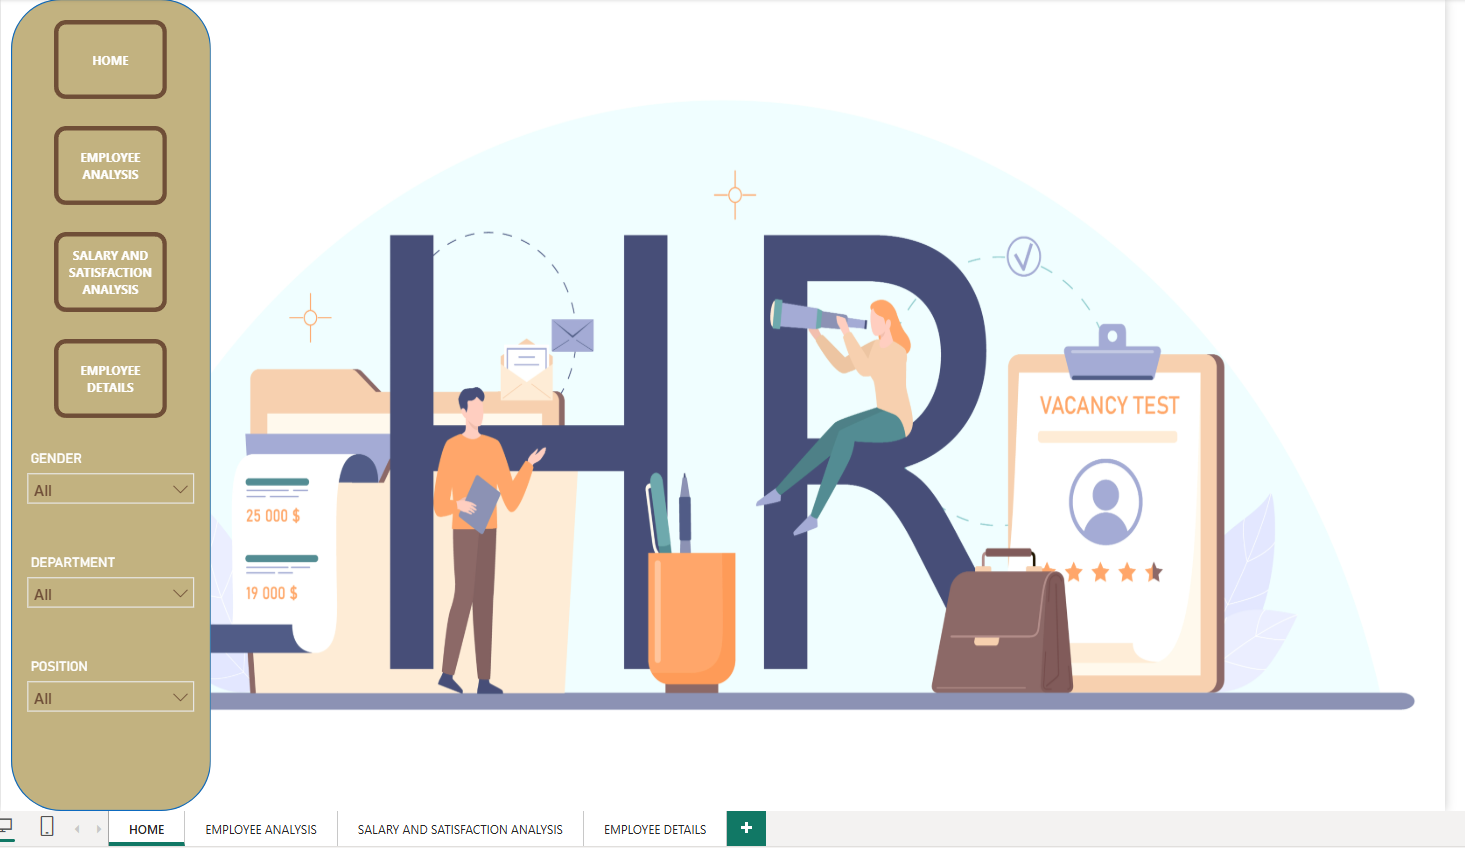

The dashboard page shown, as its layout file describes it:
{"tool":"powerbi","page":{"name":"HOME","canvas":[1280,720],"ordinal":0},"visuals":[{"type":"shape","box":[8.9,0,177.3,720],"z":0},{"type":"actionButton","box":[47,18.6,100.2,70],"z":1000},{"type":"actionButton","box":[47,112.6,100.2,70],"z":2000},{"type":"actionButton","box":[47,206.6,100.2,70.9],"z":3000},{"type":"actionButton","box":[47,301.5,100.2,70],"z":4000},{"type":"slicer","fields":{"Values":["HRDataset_v14.Sex"]},"box":[13.3,395.5,168.5,68.3],"z":5000},{"type":"slicer","fields":{"Values":["HRDataset_v14.Department"]},"box":[13.3,487.7,168.5,68.3],"z":6000},{"type":"slicer","fields":{"Values":["HRDataset_v14.Position"]},"box":[13.3,579.9,168.5,68.3],"z":7000}]}

Visuals, with their boxes on the page's 1280x720 design canvas (x1, y1, x2, y2). These are canvas units, not pixel positions in the 1465x848 screenshot, which may show the page scaled, cropped or inside an application window:
shape: [left=9, top=0, right=186, bottom=720]
actionButton: [left=47, top=19, right=147, bottom=89]
actionButton: [left=47, top=113, right=147, bottom=183]
actionButton: [left=47, top=207, right=147, bottom=278]
actionButton: [left=47, top=302, right=147, bottom=372]
slicer - HRDataset_v14.Sex: [left=13, top=396, right=182, bottom=464]
slicer - HRDataset_v14.Department: [left=13, top=488, right=182, bottom=556]
slicer - HRDataset_v14.Position: [left=13, top=580, right=182, bottom=648]
